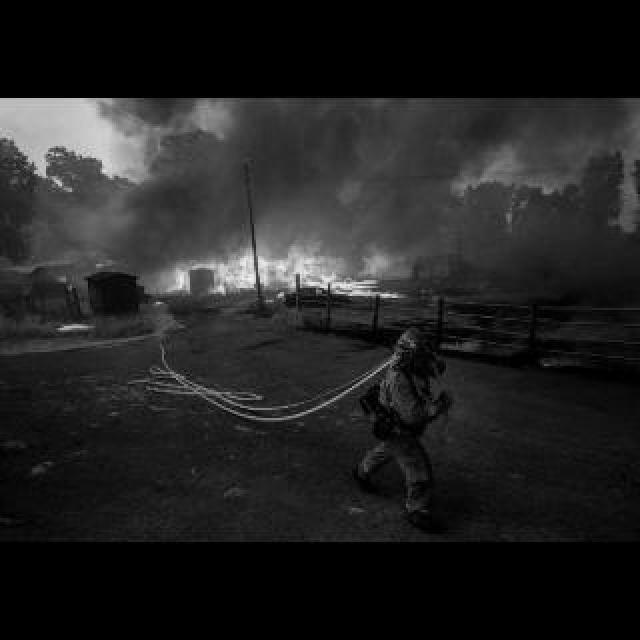fire: (138, 220, 418, 310)
smoke: (78, 96, 638, 244)
